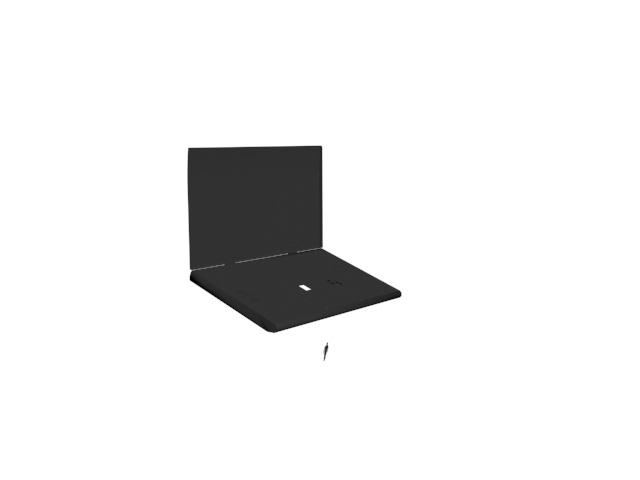laptop_computer: (185, 145, 408, 368)
